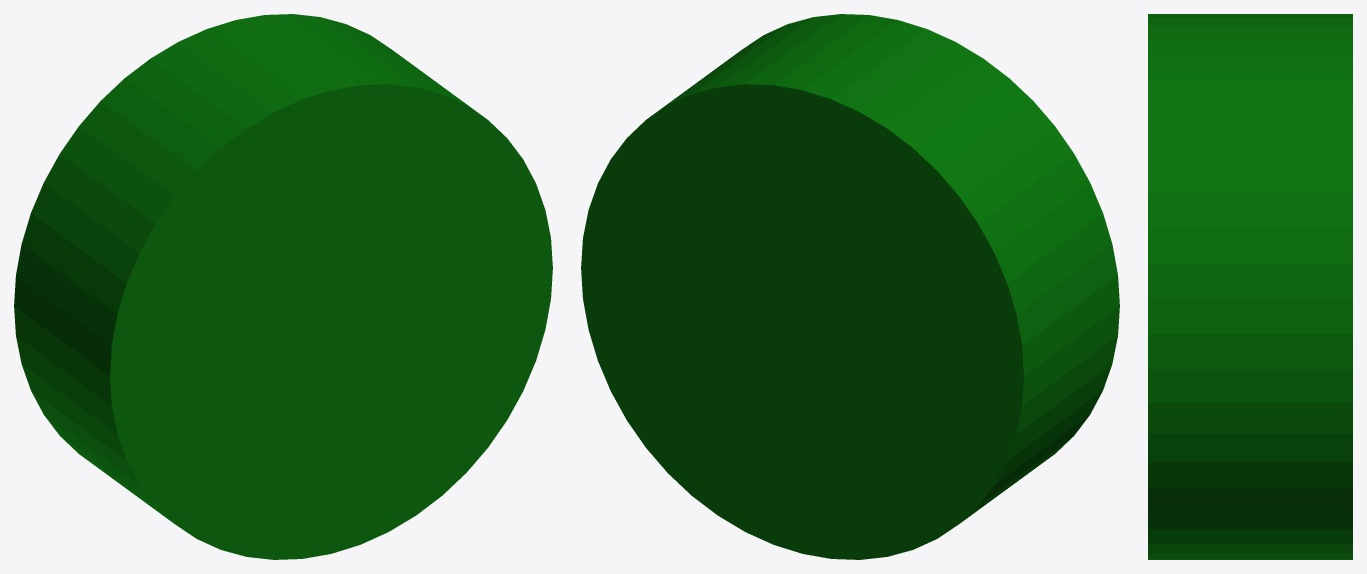
The model's file is filter_indicator_ok.obj.
3 views of the same model, side by side, from view 1: azimuth 30°, elevation 25°; view 2: azimuth 150°, elevation 25°; view 3: azimuth 270°, elevation 25° (orthographic). The views are drawn at different scales.
Parts seen in each view (by area): view 1: filter_indicator_ok; view 2: filter_indicator_ok; view 3: filter_indicator_ok.
Part boxes in pixels (bbox=[...]): filter_indicator_ok: bbox=[14, 14, 552, 559]; filter_indicator_ok: bbox=[581, 14, 1119, 559]; filter_indicator_ok: bbox=[1148, 14, 1352, 559].
Size of the model in its own units: 0.04 by 0.04 by 0.015.
